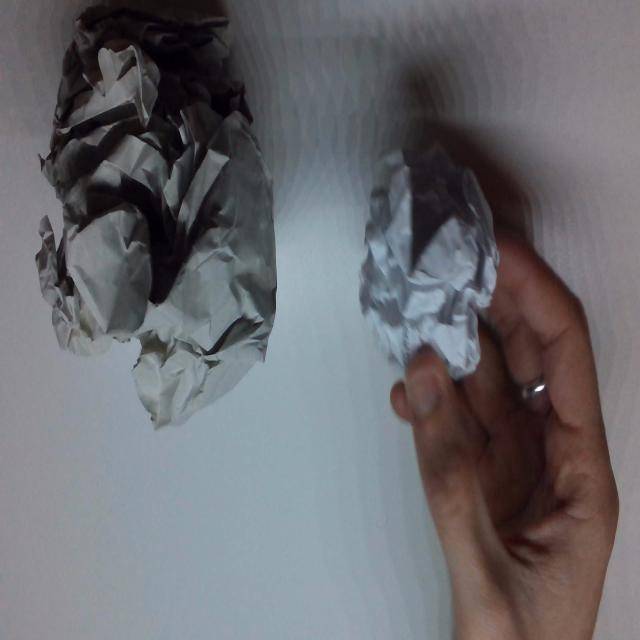Paper: (41, 1, 277, 431), (358, 131, 495, 374)
